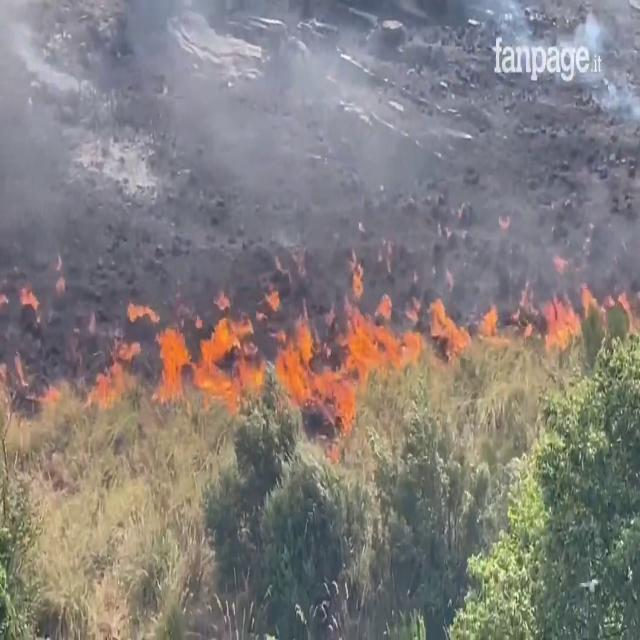Fire: (145, 268, 415, 430), (425, 288, 505, 362), (539, 280, 592, 358)
Smoke: (4, 2, 636, 314)
